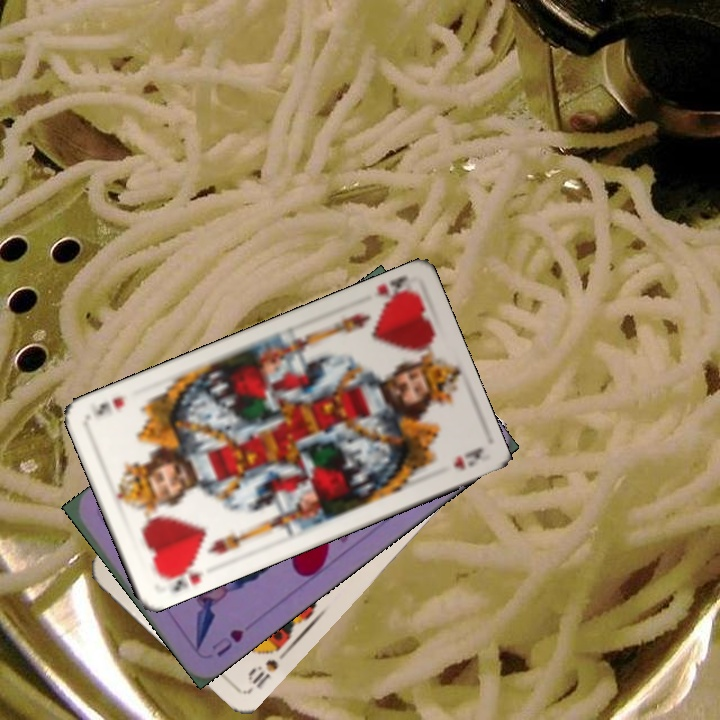HK: (156, 559, 206, 595), (372, 271, 416, 311)
HU: (207, 625, 246, 660)
S10: (243, 641, 291, 692)
